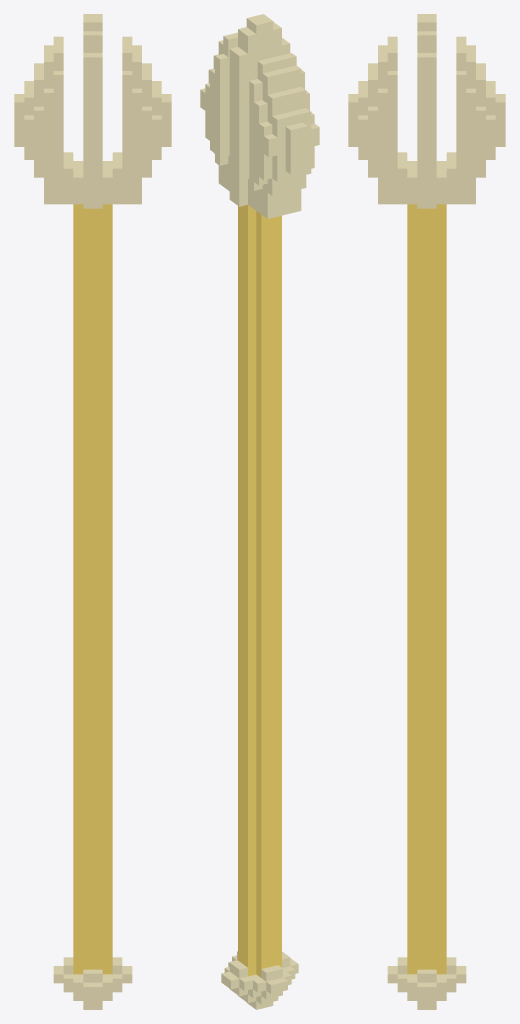
The picture shows the model from 3 angles, left to right: view 1: azimuth 90°, elevation 25°; view 2: azimuth 210°, elevation 25°; view 3: azimuth 270°, elevation 25°; orthographic projection.
Visible parts, largest first — view 1: Object; view 2: Object; view 3: Object.
Part boxes in pixels (box(x1,y1,x2,y2)): Object: box(14, 14, 171, 1009); Object: box(200, 14, 319, 1009); Object: box(348, 14, 505, 1009).
Size of the model in its own units: 8 by 111 by 16.
1 material, 1 textured.
